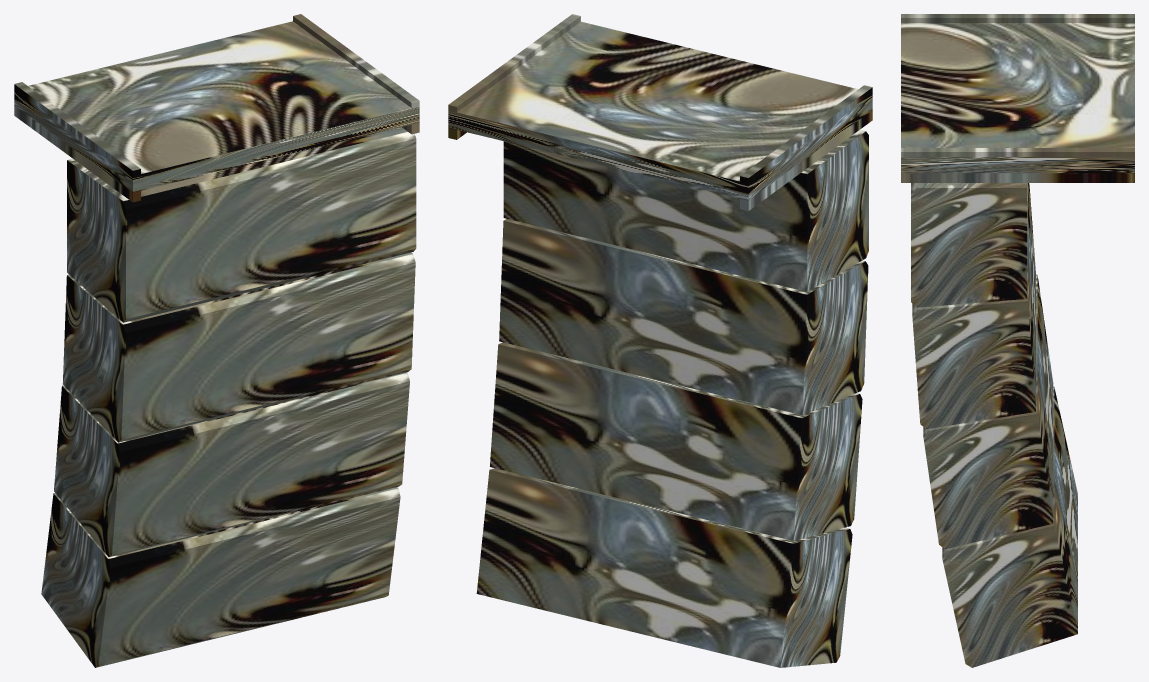
File: Hanging Speakers.fbx
The picture shows the model from 3 angles, left to right: view 1: azimuth 30°, elevation 25°; view 2: azimuth 150°, elevation 25°; view 3: azimuth 270°, elevation 25°; orthographic projection. The views are drawn at different scales.
Parts seen in each view (by area): view 1: SPEAKER-ROOF; view 2: SPEAKER-ROOF; view 3: SPEAKER-ROOF.
Boxes of the visible parts, box(x1,y1,x2,y2) form: SPEAKER-ROOF: box(14, 14, 419, 667); SPEAKER-ROOF: box(448, 14, 872, 667); SPEAKER-ROOF: box(901, 14, 1134, 667).
Bounding box in the file's own units: 107 × 184 × 75.46.
Materials: 1 (1 with a texture image).
